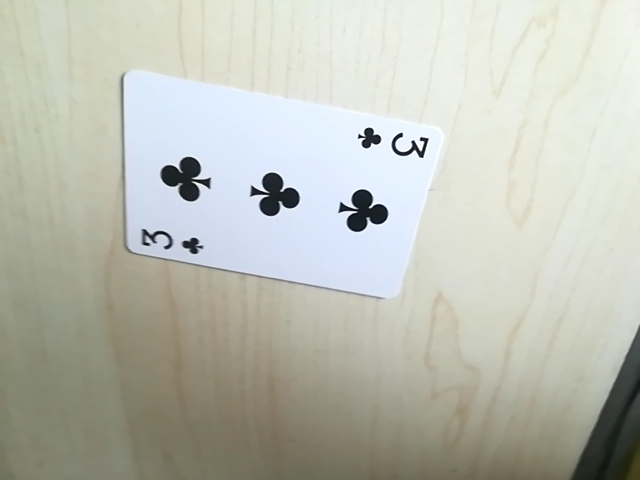mh 3: (356, 124, 433, 162), (133, 226, 209, 259)
